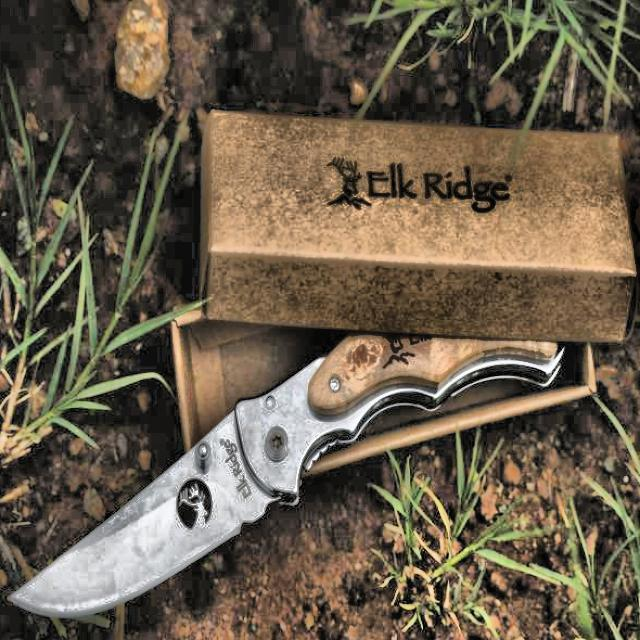knife: (8, 307, 568, 623)
